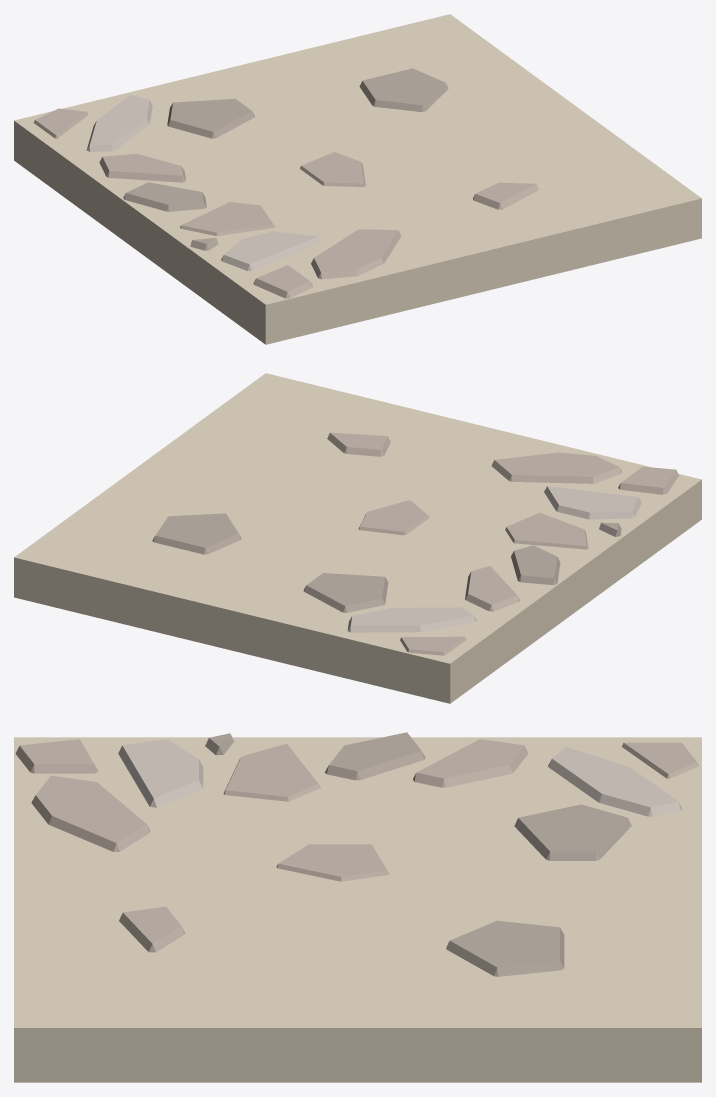
File: Cobblestone1C.fbx
3 views of the same model, one above another, from view 1: azimuth 30°, elevation 25°; view 2: azimuth 150°, elevation 25°; view 3: azimuth 270°, elevation 25° (orthographic). The views are drawn at different scales.
Visible parts, largest first — view 1: object1; view 2: object1; view 3: object1.
Part boxes in pixels (x1,y1,x2,y2): object1: (14, 14, 701, 344); object1: (14, 373, 701, 703); object1: (14, 732, 701, 1082).
Bounding box in the file's own units: 100 × 10 × 100.
